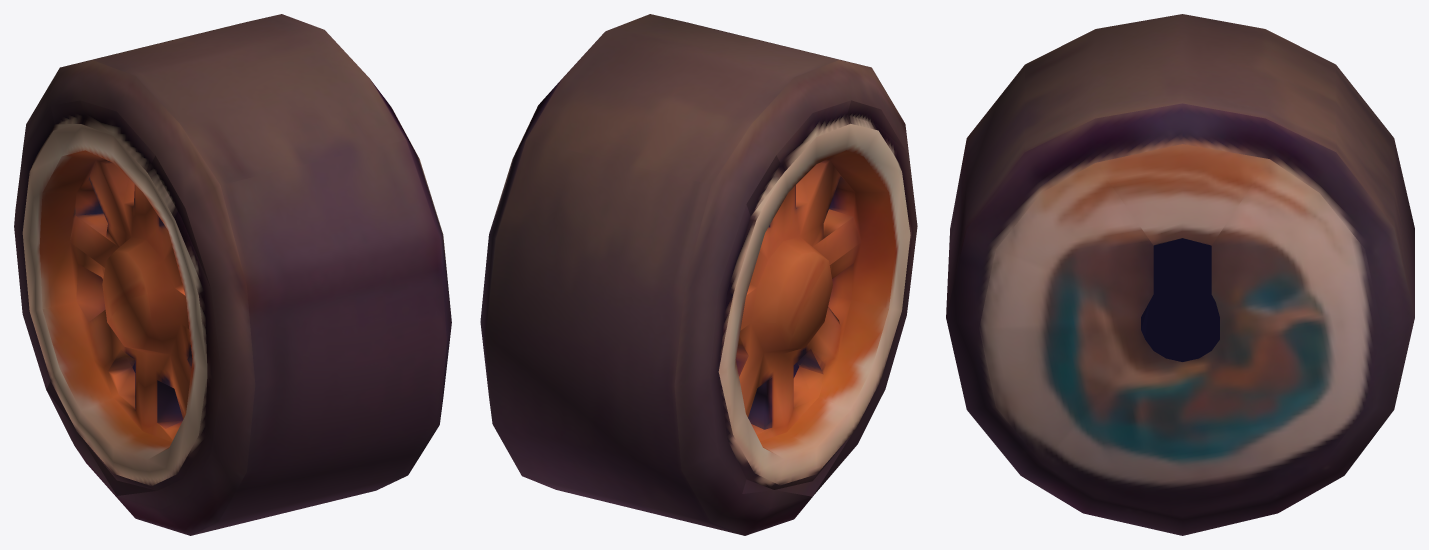
Rendered from wheel_rear.glb.
The picture shows the model from 3 angles, left to right: view 1: azimuth 30°, elevation 25°; view 2: azimuth 150°, elevation 25°; view 3: azimuth 270°, elevation 25°; orthographic projection. The views are drawn at different scales.
Visible parts, largest first — view 1: wheel_rear; view 2: wheel_rear; view 3: wheel_rear.
Boxes of the visible parts, x1,y1,x2,y2 form: wheel_rear: [14, 14, 451, 535]; wheel_rear: [480, 14, 917, 535]; wheel_rear: [946, 14, 1414, 535].
Size of the model in its own units: 0.1252 by 0.225 by 0.2211.
Materials: 1 (1 with a texture image).
